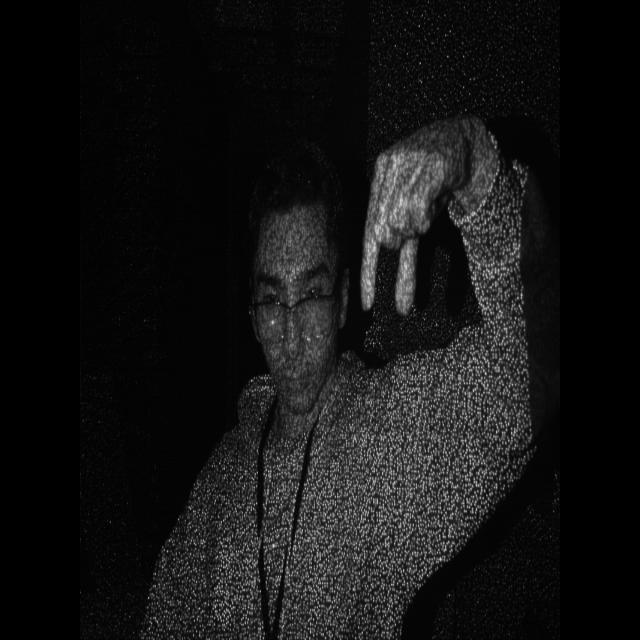Q: (355, 104, 508, 324)
